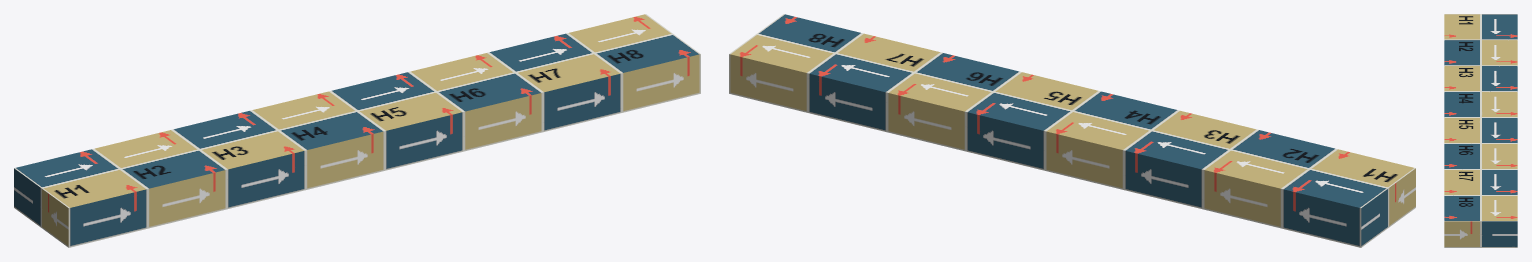
Rendered from LIGHT_FluorescentHousing.fbx.
3 views of the same model, side by side, from view 1: azimuth 30°, elevation 25°; view 2: azimuth 150°, elevation 25°; view 3: azimuth 270°, elevation 25° (orthographic). The views are drawn at different scales.
Visible parts, largest first — view 1: LIGHT_FluorescentHousing; view 2: LIGHT_FluorescentHousing; view 3: LIGHT_FluorescentHousing.
Part boxes in pixels (bbox=[...]): LIGHT_FluorescentHousing: bbox=[14, 14, 700, 247]; LIGHT_FluorescentHousing: bbox=[729, 14, 1415, 247]; LIGHT_FluorescentHousing: bbox=[1444, 14, 1517, 247].
Bounding box in the file's own units: 200 × 12 × 30.
2 materials, 2 textured.
